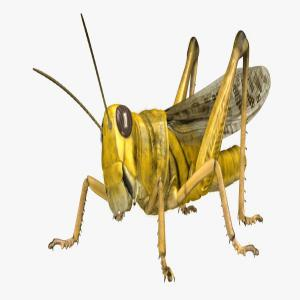locust: (52, 19, 280, 276)
